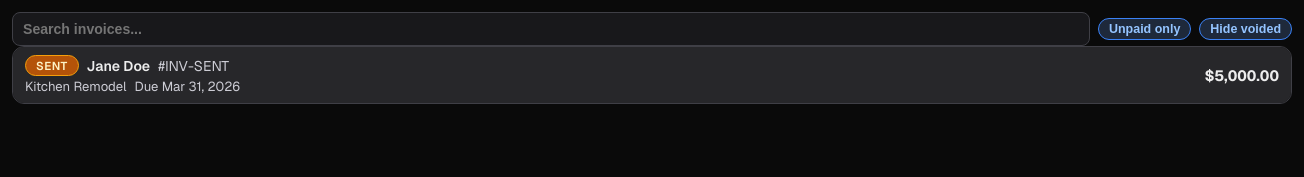
Test case: InvoicesTab › hides voided invoices by default, shows them when toggled
The width and height of the screenshot is (1304, 177).
Expected: the text "#INV-SENT" is shown, [158,56,229,74]
Expected: the text "#INV-VOID" is not shown
Note: Toggle "Hide voided" off
Click the button "Hide voided": (1246, 29) [1199,18,1292,40]
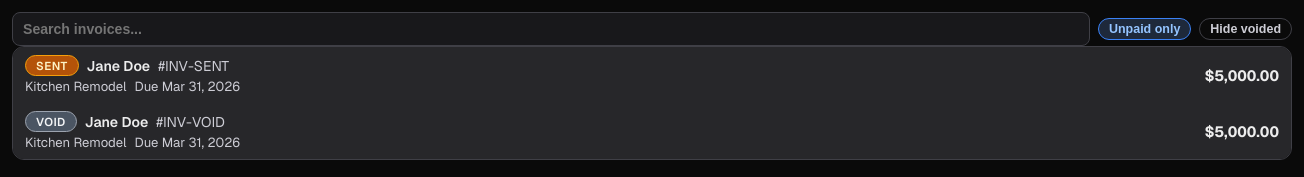
Expected: the text "#INV-VOID" is shown, [156,112,225,130]
